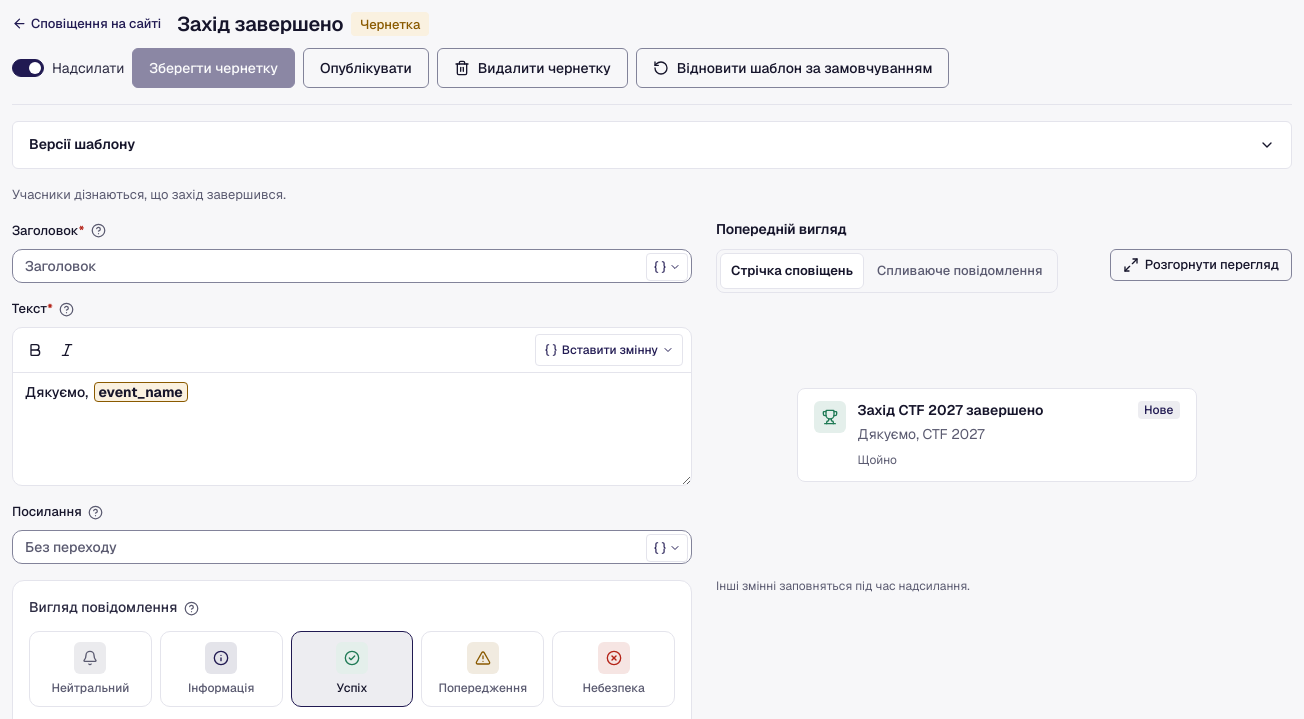
Scenario: Сторінка сповіщення на сайті › edits the draft with every field labelled and validates the title
The image size is (1304, 719).
Expected: the button named "Про поле «Заголовок»" is shown, [88,221,108,241]
Expected: the button named "Про поле «Текст»" is shown, [57,299,77,319]
Clear the field named "Заголовок" at (352, 266), box [12,249,692,283]
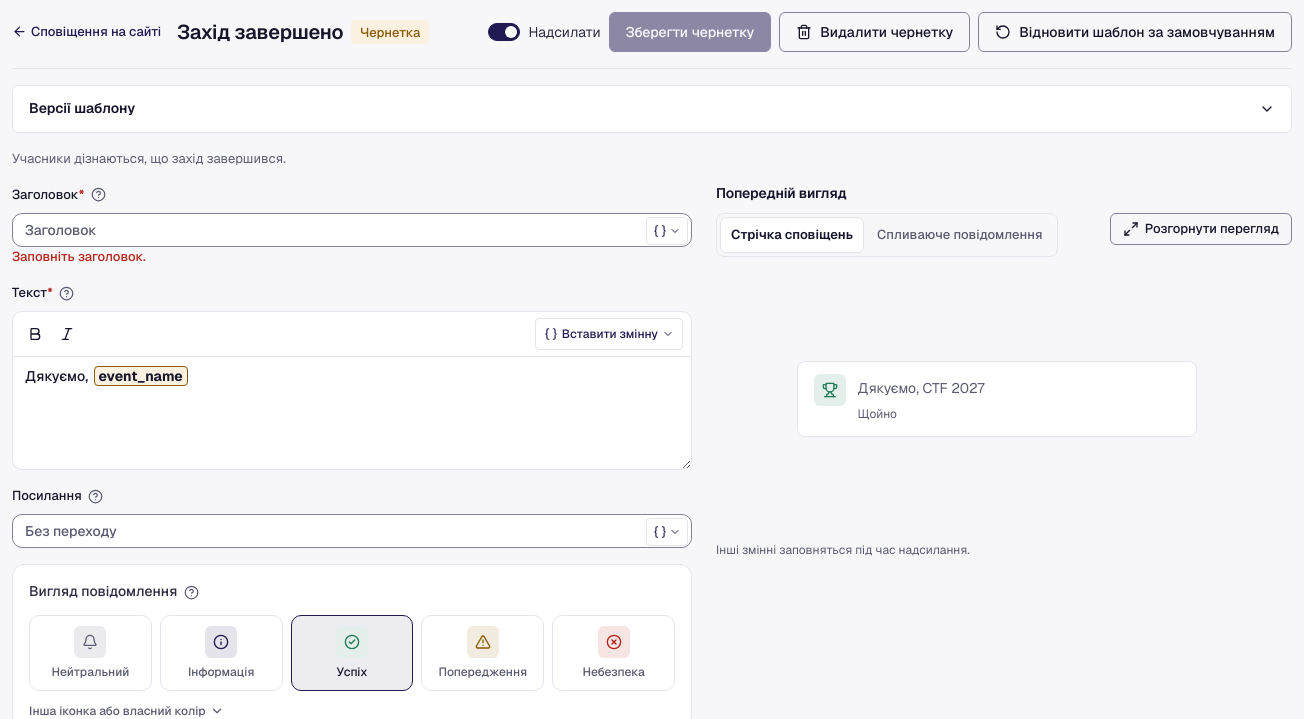
Expected: the button "Зберегти чернетку" is disabled, [609,12,771,52]
Expected: the message reads "Заповніть заголовок.", [12,248,146,265]
